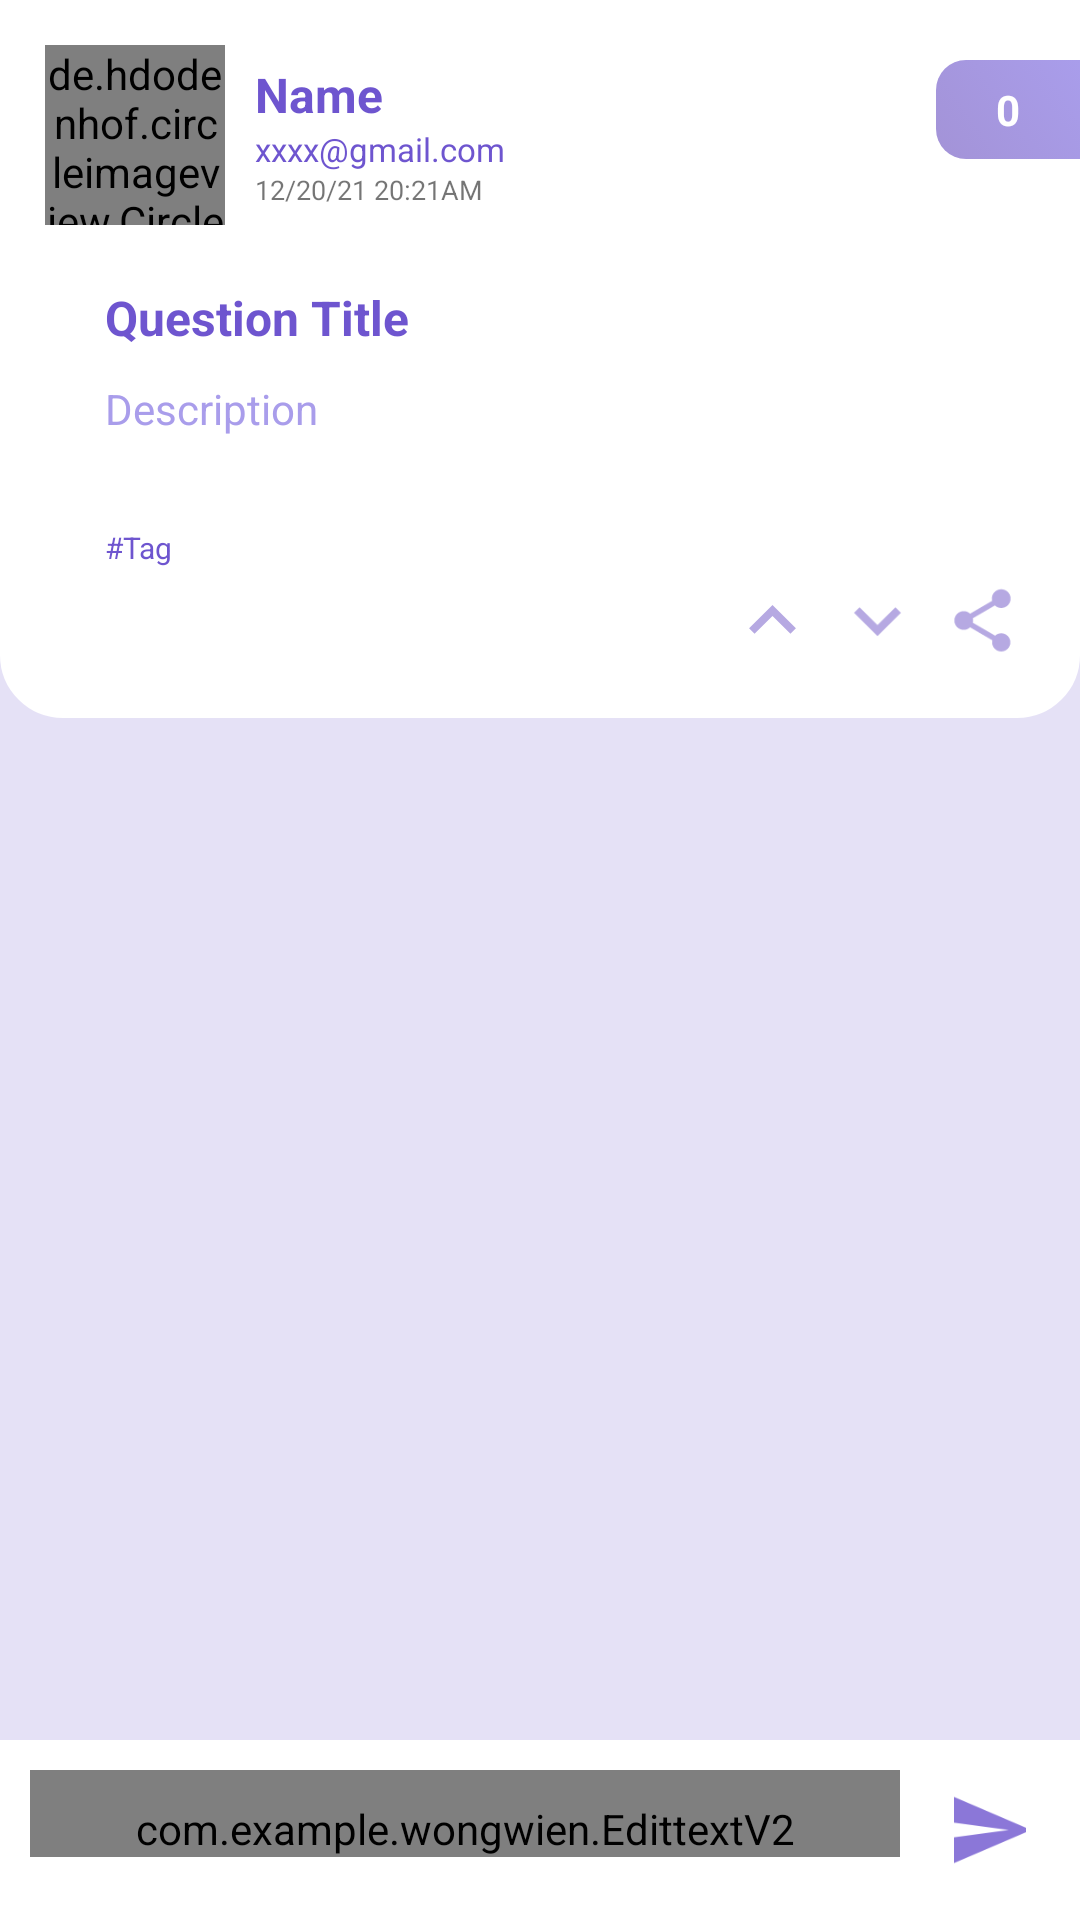

Screen size 1080 x 1920. Icon name, then its center in pixels as point (x, y):
down secound: point (877, 621)
send: point (990, 1830)
share secound: point (982, 620)
up secound: point (772, 619)
